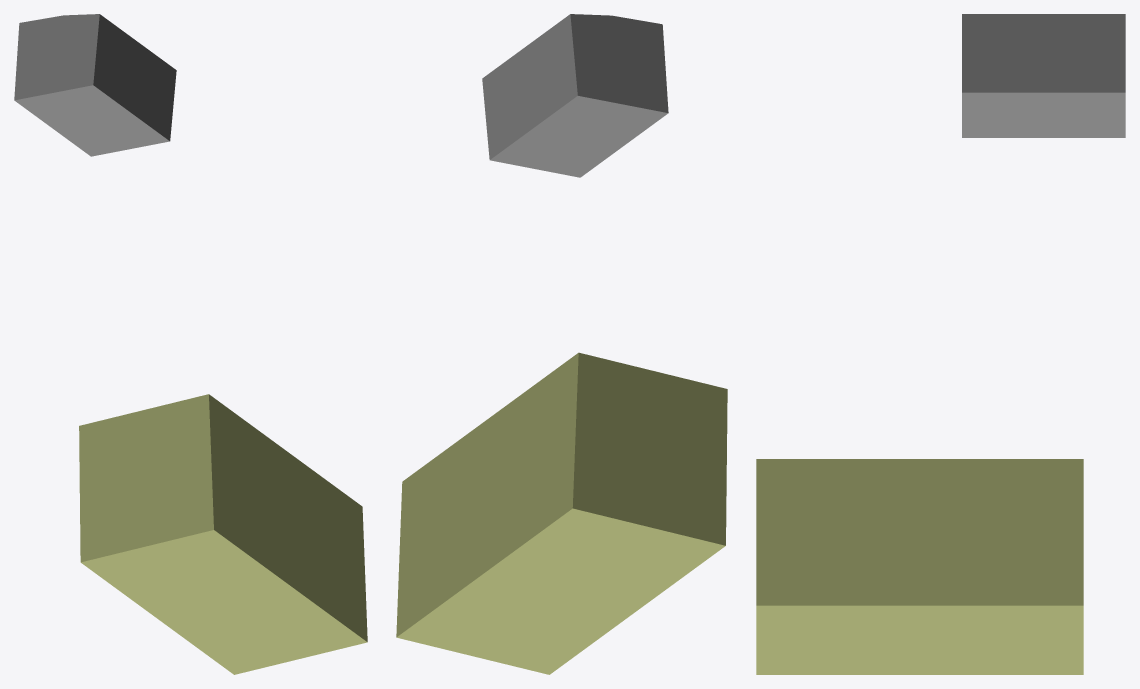
3 views of the same model, side by side, from view 1: azimuth 30°, elevation 25°; view 2: azimuth 150°, elevation 25°; view 3: azimuth 270°, elevation 25° (orthographic). The views are drawn at different scales.
Parts seen in each view (by area): view 1: 0_1_2_0_0_2_2_0_3_1_2; view 2: 0_1_2_0_0_2_2_0_3_1_2; view 3: 0_1_2_0_0_2_2_0_3_1_2.
Part boxes in pixels (box(x1,y1,x2,y2)): 0_1_2_0_0_2_2_0_3_1_2: box(14, 14, 367, 674); 0_1_2_0_0_2_2_0_3_1_2: box(396, 14, 727, 674); 0_1_2_0_0_2_2_0_3_1_2: box(756, 14, 1125, 674).
Size of the model in its own units: 4.06 by 11.53 by 6.77.
